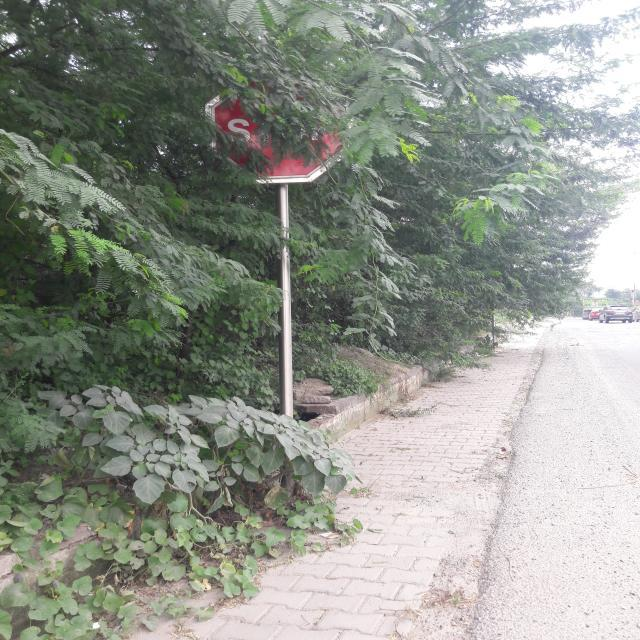stop: (199, 68, 359, 187)
